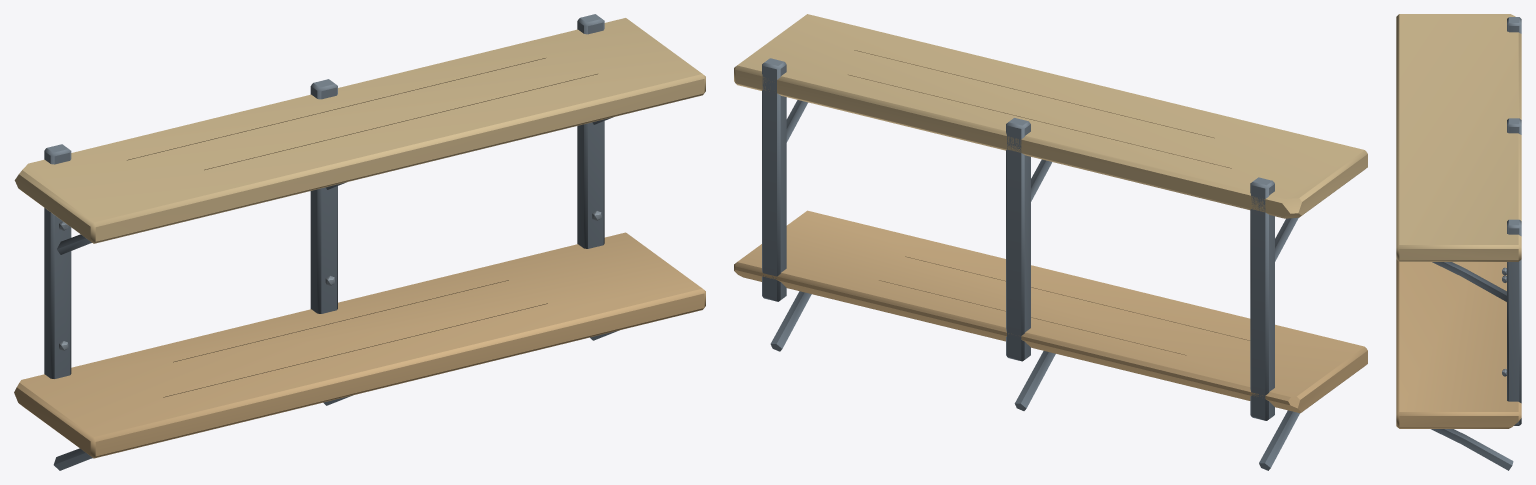
File: ruins-shelf.glb
3 renders of one model, left to right at view 1: azimuth 30°, elevation 25°; view 2: azimuth 150°, elevation 25°; view 3: azimuth 270°, elevation 25°, orthographic. The views are drawn at different scales.
Parts seen in each view (by area): view 1: 0_ruins_shelf; view 2: 0_ruins_shelf; view 3: 0_ruins_shelf.
Boxes of the visible parts, box(x1,y1,x2,y2) form: 0_ruins_shelf: box(14, 14, 705, 470); 0_ruins_shelf: box(734, 14, 1367, 470); 0_ruins_shelf: box(1396, 14, 1521, 470).
Bounding box in the file's own units: 1.5 × 0.743 × 0.34.
